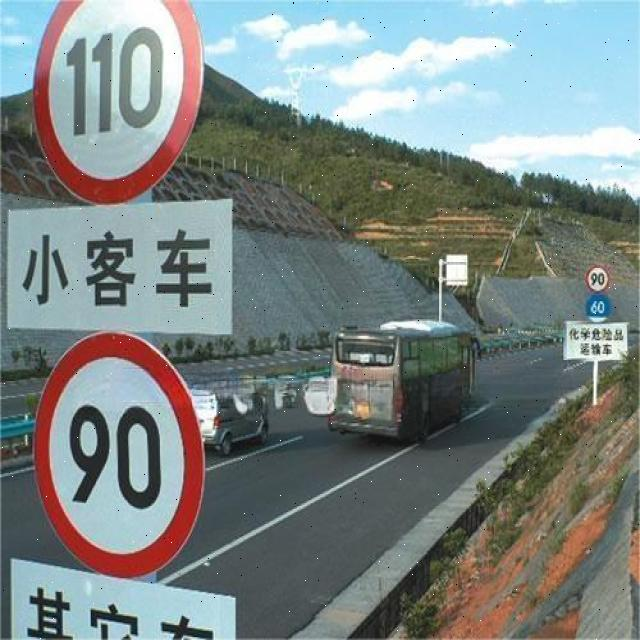speed limit 110: (32, 0, 207, 207)
speed limit 90: (32, 329, 206, 581)
